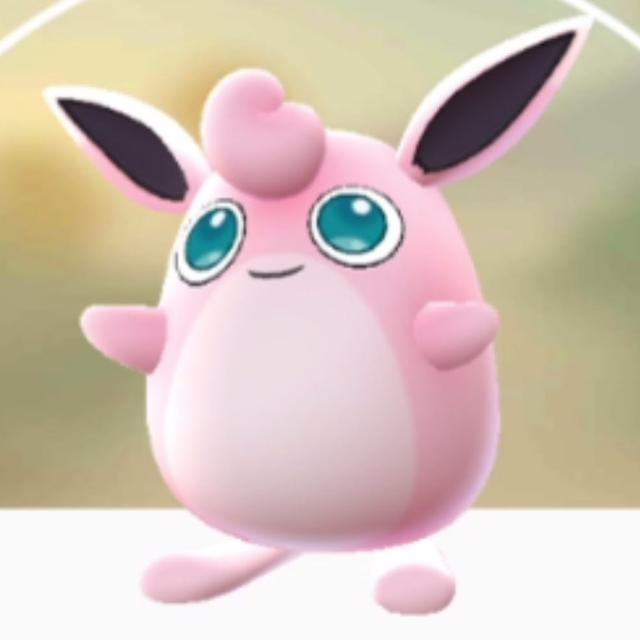Wigglytuff: (76, 71, 519, 602)
